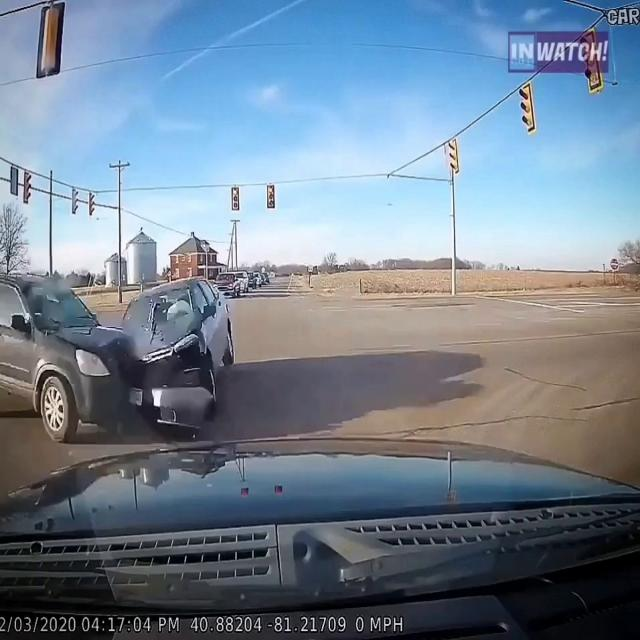accident: (1, 268, 239, 444)
